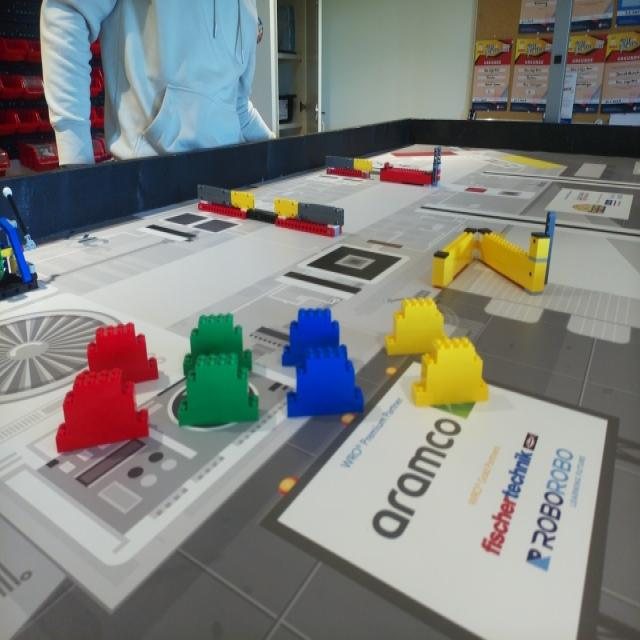blau: (291, 355, 364, 418), (289, 310, 341, 348)
gruen: (183, 359, 261, 427), (184, 309, 250, 358)
rot: (57, 372, 148, 453), (82, 326, 156, 377)
yellow: (417, 342, 489, 406), (387, 300, 446, 354)
